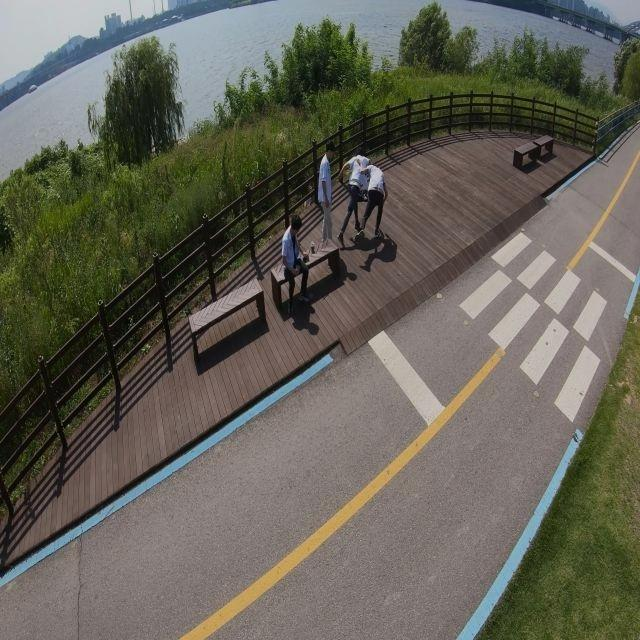fight: (339, 155, 387, 243)
non-fight: (280, 215, 311, 312), (317, 145, 335, 246)
